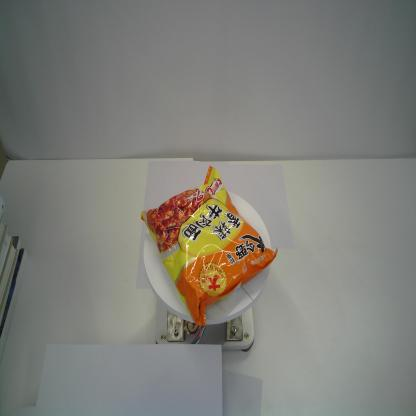Instant Noodles: (140, 165, 278, 328)
